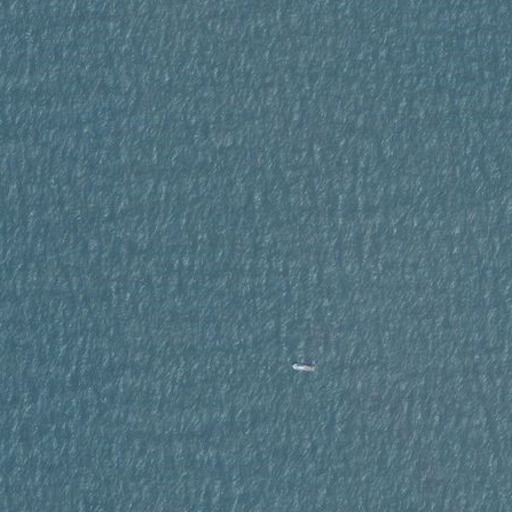ship: (289, 360, 316, 377)
